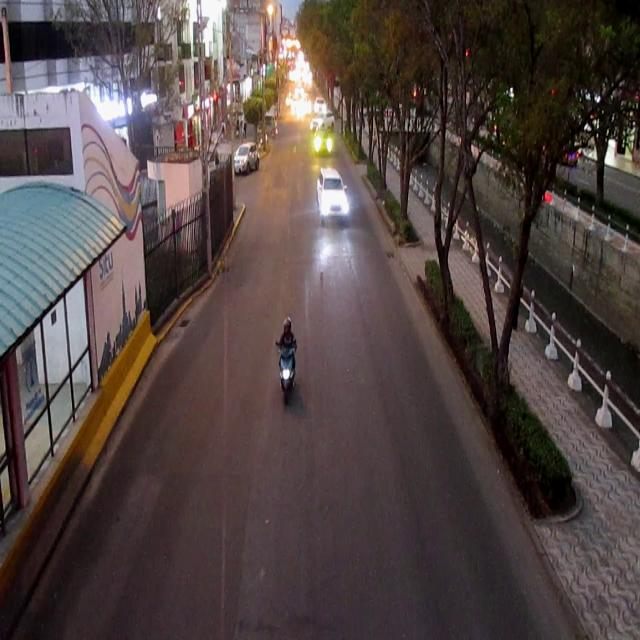MOTORCYCLE: (277, 316, 300, 398)
SUV: (317, 171, 346, 223), (236, 146, 260, 175)
